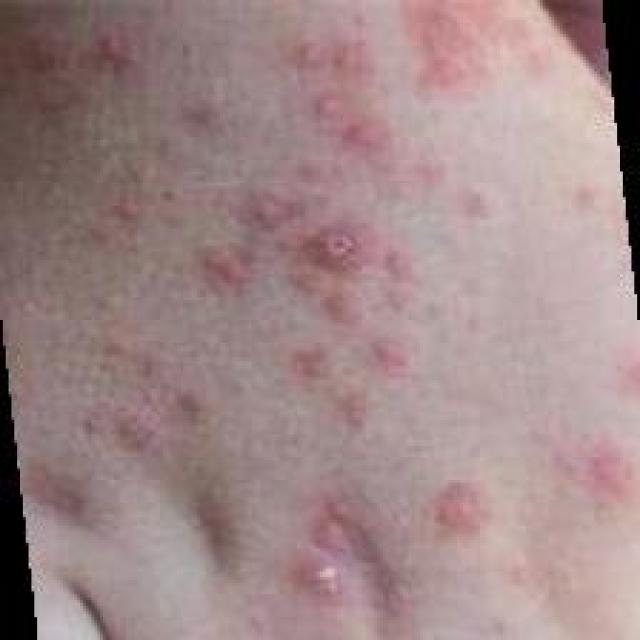monkeypox: (0, 24, 625, 639)
